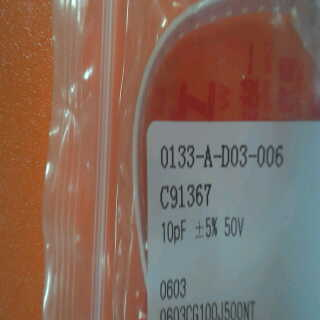10pF: (160, 212, 186, 252)
